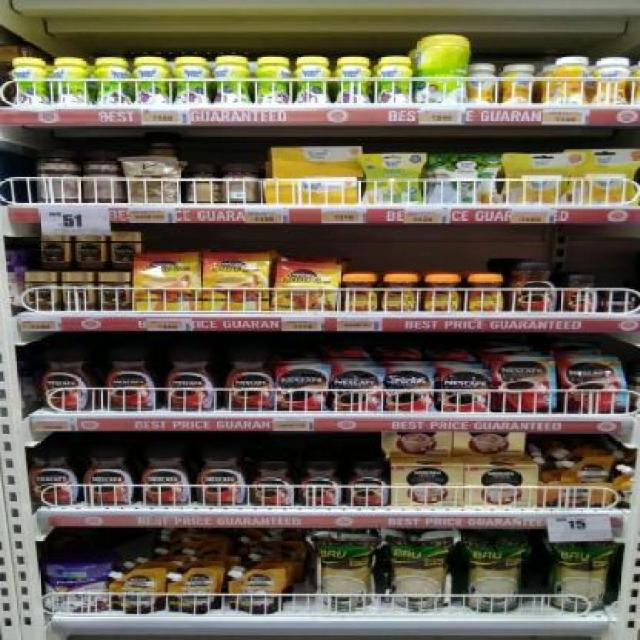Coffee: (98, 346, 160, 412), (159, 346, 221, 412), (558, 356, 628, 412), (134, 254, 200, 312), (221, 346, 279, 412), (39, 347, 98, 411), (203, 254, 268, 312), (493, 356, 556, 413), (193, 445, 249, 506), (138, 446, 195, 505), (82, 447, 138, 504), (276, 262, 339, 310), (28, 447, 81, 504), (508, 260, 560, 312), (278, 366, 327, 411), (332, 366, 381, 411), (342, 461, 392, 505), (250, 461, 296, 507), (441, 370, 488, 412), (300, 461, 344, 505), (386, 368, 432, 410), (463, 274, 505, 312), (383, 274, 422, 312), (341, 273, 381, 310), (63, 270, 99, 310), (422, 274, 462, 310), (96, 271, 132, 309), (24, 270, 58, 310), (565, 275, 601, 311), (74, 234, 108, 268), (39, 235, 70, 270), (110, 232, 138, 270), (606, 289, 640, 313)
